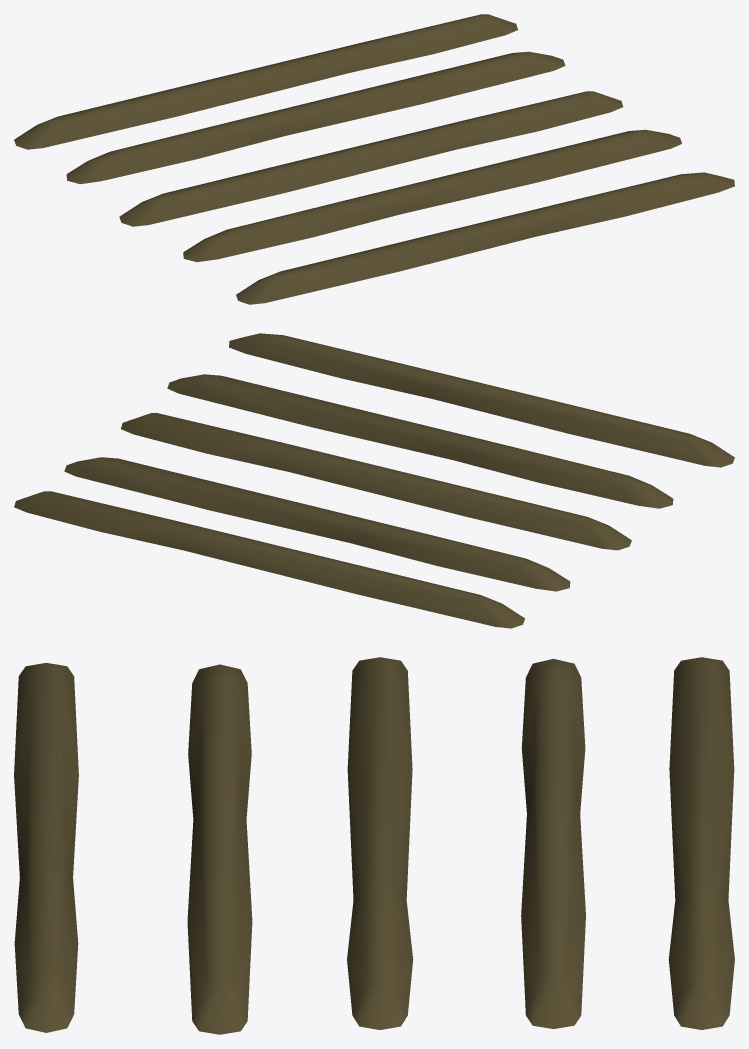
File: Farm_Dirt.glb
The picture shows the model from 3 angles, top to bottom: view 1: azimuth 30°, elevation 25°; view 2: azimuth 150°, elevation 25°; view 3: azimuth 270°, elevation 25°; orthographic projection. The views are drawn at different scales.
Visible parts, largest first — view 1: Farm_Dirt_Level1; view 2: Farm_Dirt_Level1; view 3: Farm_Dirt_Level1.
Part boxes in pixels (left/top/right/bottom): Farm_Dirt_Level1: left=14, top=14, right=734, bottom=304; Farm_Dirt_Level1: left=14, top=333, right=734, bottom=628; Farm_Dirt_Level1: left=14, top=657, right=734, bottom=1034.
Size of the model in its own units: 1.79 by 0.0563 by 1.44.
